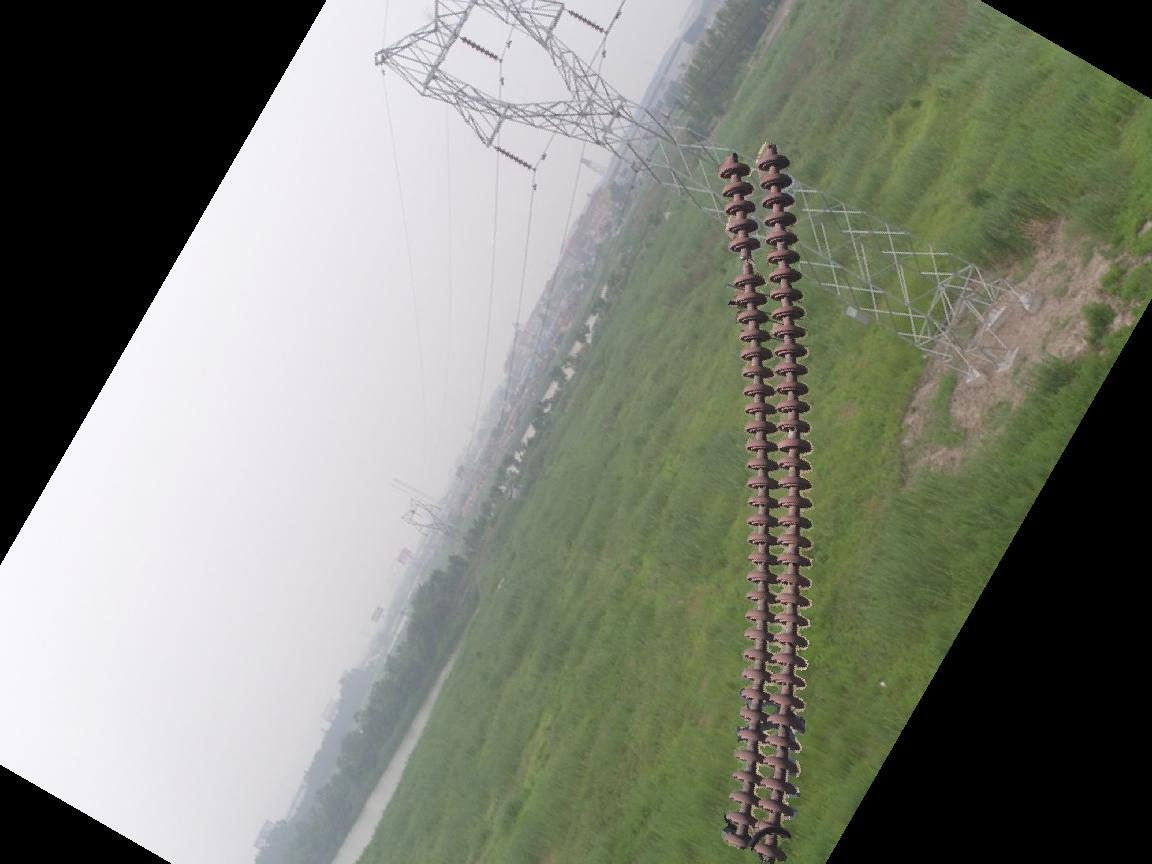insulator: (709, 150, 818, 864), (492, 142, 535, 176), (565, 6, 607, 39), (459, 33, 501, 66)
insulator_stringdrop: (729, 234, 768, 291)
